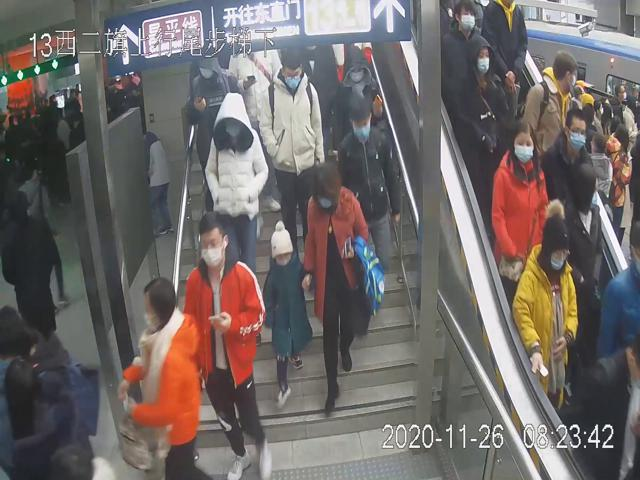person: (184, 212, 274, 480), (301, 158, 387, 416), (116, 275, 210, 477), (509, 195, 579, 417), (258, 44, 322, 253), (337, 94, 401, 286), (203, 89, 268, 278), (489, 118, 548, 297), (258, 220, 311, 415), (453, 32, 512, 186), (186, 44, 236, 177), (332, 42, 386, 146)
